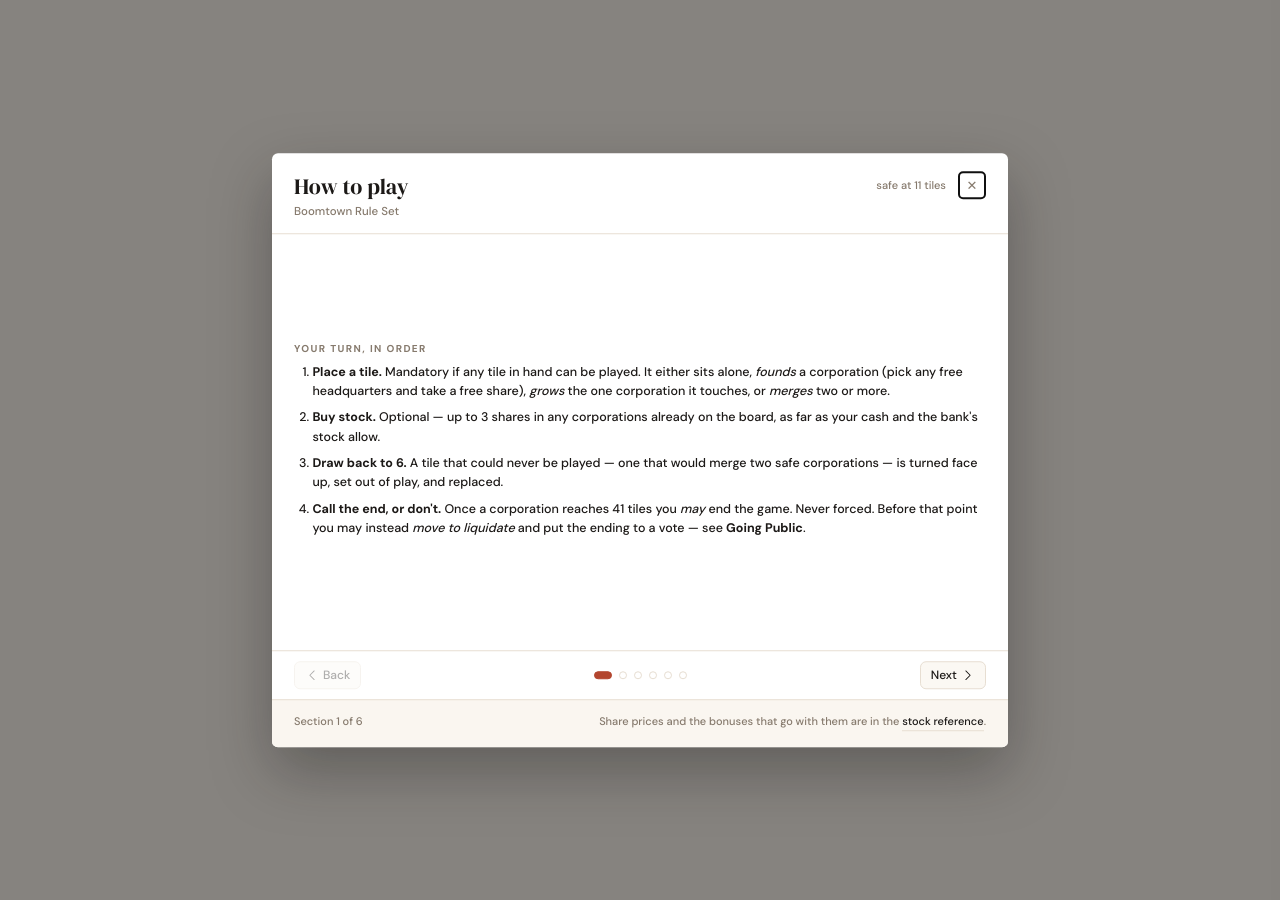
Test: RulesReference modal › names the merger sequencing rule that everything else depends on
The image size is (1280, 900).
Click the button named "When corporations merge".
click(623, 675)  # box [619,671,627,679]
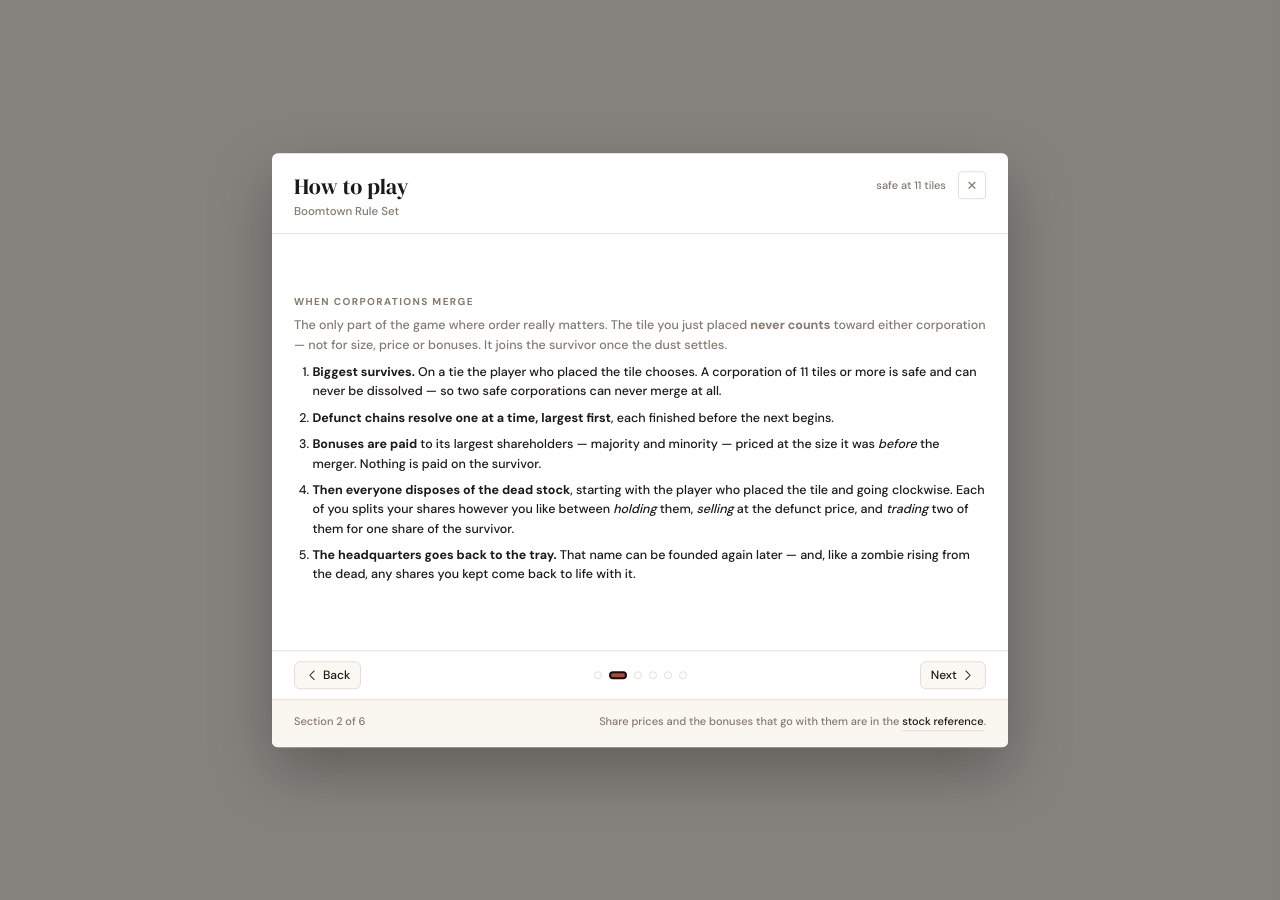
expect the dialog "How to play" shows "never counts": met, box [750,318,830,334]
expect the dialog "How to play" shows "largest first": met, box [312,410,611,426]
